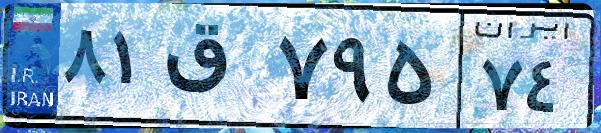1: (110, 28, 158, 98)
4: (525, 38, 570, 115)
5: (385, 28, 445, 110)
7: (270, 28, 330, 110), (475, 38, 525, 113)
8: (57, 26, 110, 100)
9: (330, 28, 385, 110)
ق: (158, 20, 270, 120)
